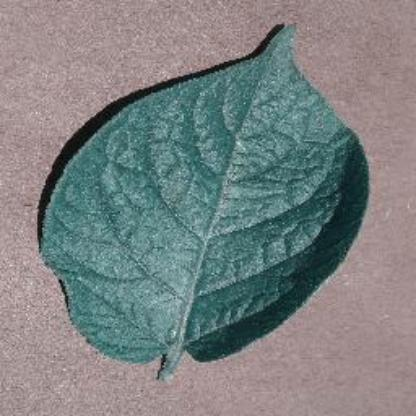Healthy-plant: (34, 22, 374, 384)
